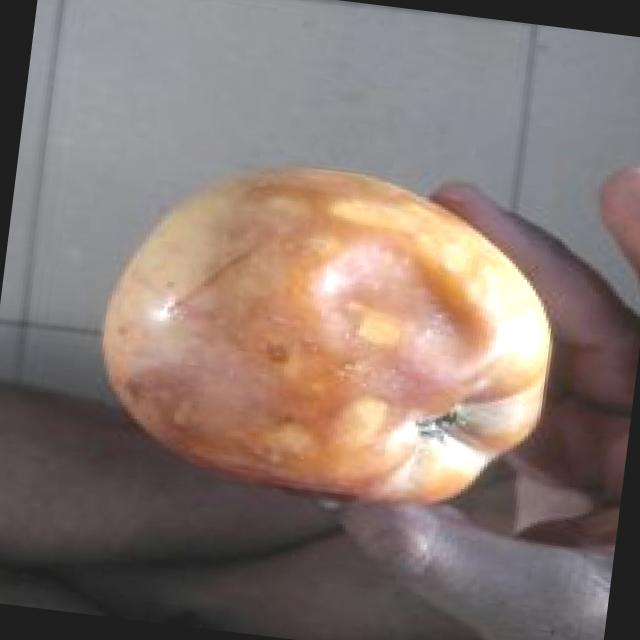Rotten_Apple: (78, 143, 577, 523)
